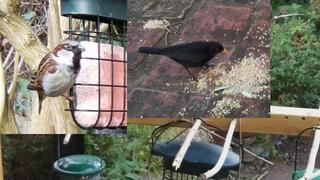blackbird: (137, 40, 230, 83)
sparrow: (26, 40, 87, 115)
